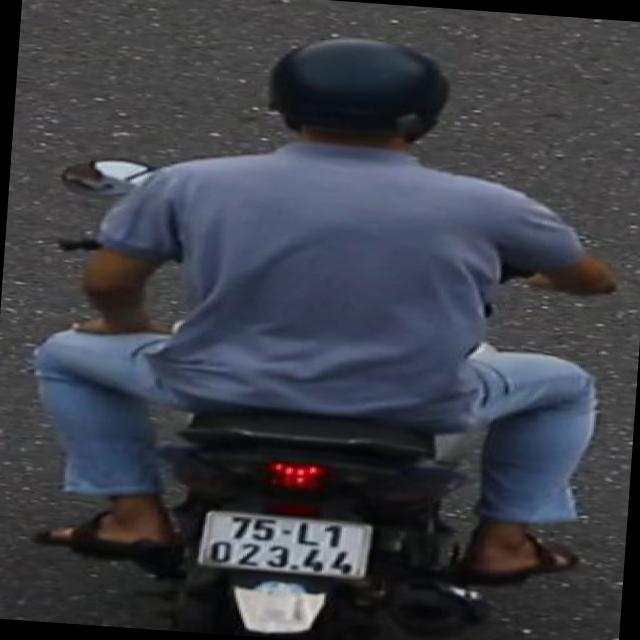LP: (186, 497, 380, 587)
helmet: (248, 25, 480, 174)
